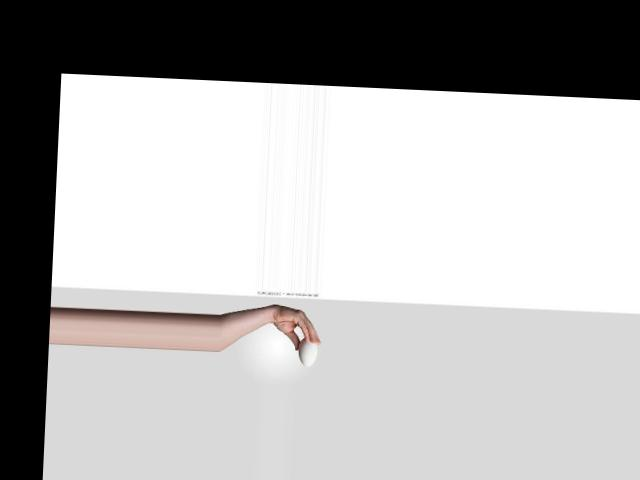egg: (297, 336, 318, 367)
